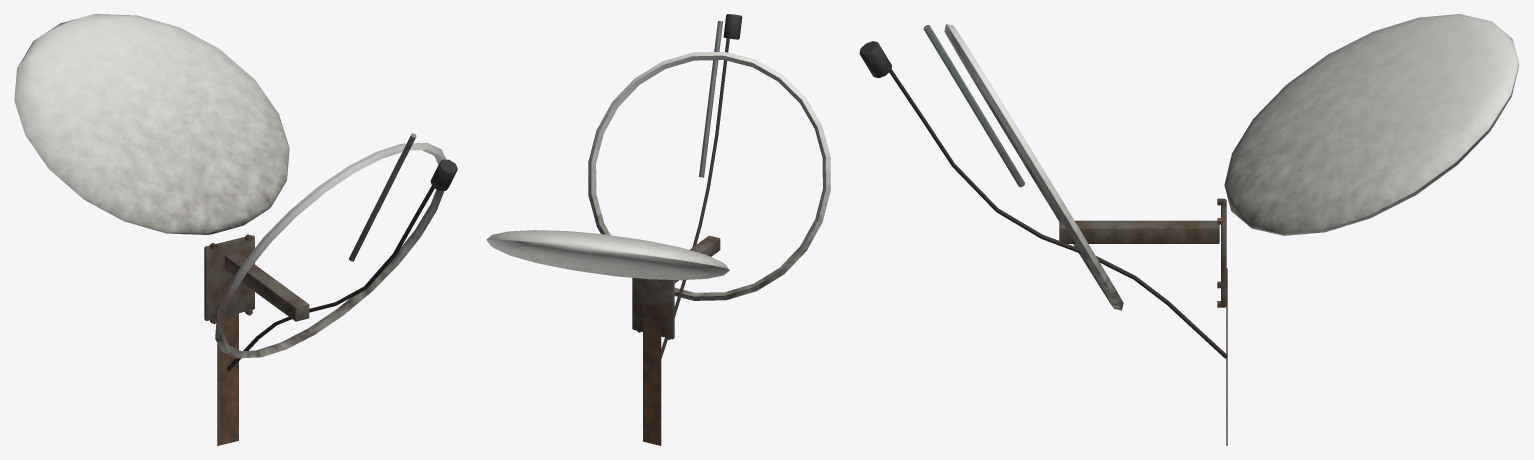
Rendered from g67_fx_dish.glb.
The picture shows the model from 3 angles, left to right: view 1: azimuth 30°, elevation 25°; view 2: azimuth 150°, elevation 25°; view 3: azimuth 270°, elevation 25°; orthographic projection. The views are drawn at different scales.
Visible parts, largest first — view 1: g67_fx_dish; view 2: g67_fx_dish; view 3: g67_fx_dish.
Part boxes in pixels (<box>): g67_fx_dish: <box>14,14,457,445</box>; g67_fx_dish: <box>486,14,830,445</box>; g67_fx_dish: <box>859,14,1519,445</box>.
Bounding box in the file's own units: 0.7938 × 1.07 × 1.44.
1 material, 1 textured.
